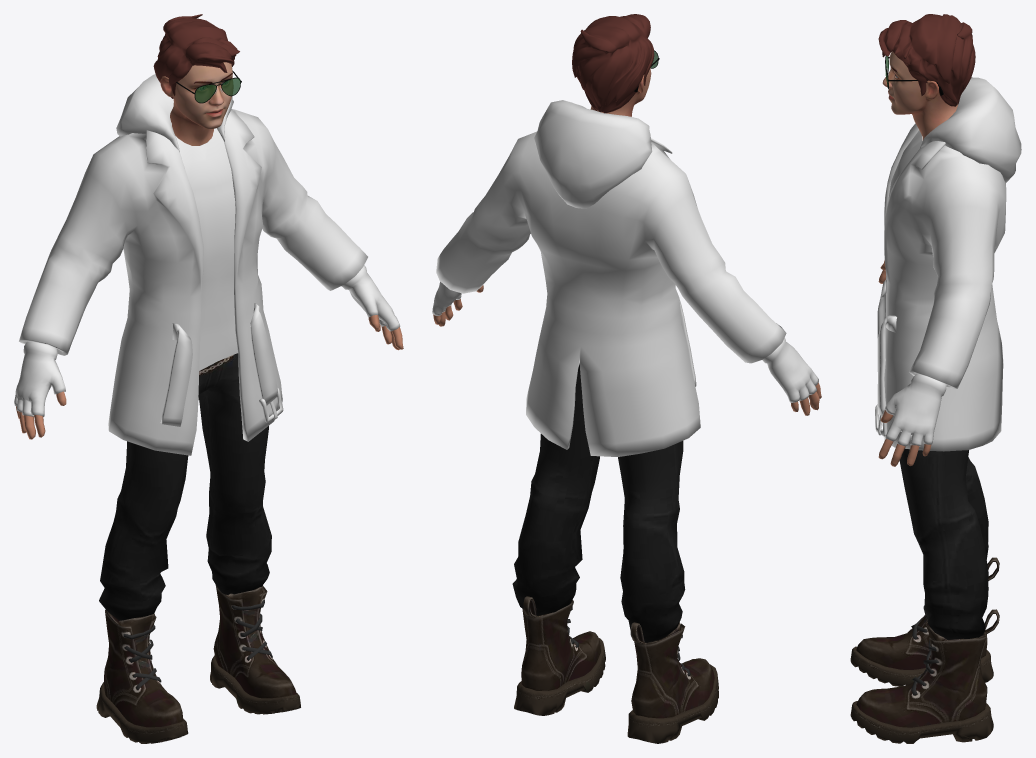
Rendered from animation.glb.
The picture shows the model from 3 angles, left to right: view 1: azimuth 30°, elevation 25°; view 2: azimuth 150°, elevation 25°; view 3: azimuth 270°, elevation 25°; orthographic projection.
Parts seen in each view (by area): view 1: Wolf3D_Outfit_Top, Wolf3D_Outfit_Bottom, Wolf3D_Outfit_Footwear, Wolf3D_Head, Wolf3D_Hair, Wolf3D_Body, Wolf3D_Glasses; view 2: Wolf3D_Outfit_Top, Wolf3D_Outfit_Bottom, Wolf3D_Outfit_Footwear, Wolf3D_Hair, Wolf3D_Body; view 3: Wolf3D_Outfit_Top, Wolf3D_Outfit_Footwear, Wolf3D_Outfit_Bottom, Wolf3D_Hair, Wolf3D_Head, Wolf3D_Body.
Part boxes in pixels (<box>): Wolf3D_Outfit_Top: <box>14,74,400,455</box>; Wolf3D_Outfit_Bottom: <box>99,353,271,620</box>; Wolf3D_Outfit_Footwear: <box>96,585,300,743</box>; Wolf3D_Head: <box>160,62,233,145</box>; Wolf3D_Hair: <box>153,14,239,98</box>; Wolf3D_Body: <box>16,315,403,439</box>; Wolf3D_Glasses: <box>176,70,241,103</box>; Wolf3D_Outfit_Top: <box>432,100,818,456</box>; Wolf3D_Outfit_Bottom: <box>512,364,685,642</box>; Wolf3D_Outfit_Footwear: <box>514,596,718,743</box>; Wolf3D_Hair: <box>572,14,654,113</box>; Wolf3D_Body: <box>433,285,821,415</box>; Wolf3D_Outfit_Top: <box>875,77,1021,451</box>; Wolf3D_Outfit_Footwear: <box>850,557,999,743</box>; Wolf3D_Outfit_Bottom: <box>899,448,988,639</box>; Wolf3D_Hair: <box>878,14,975,106</box>; Wolf3D_Head: <box>882,51,957,140</box>; Wolf3D_Body: <box>878,260,931,466</box>.
Size of the model in its own units: 1.06 by 1.86 by 0.4212.
Materials: 9 (8 with a texture image).
